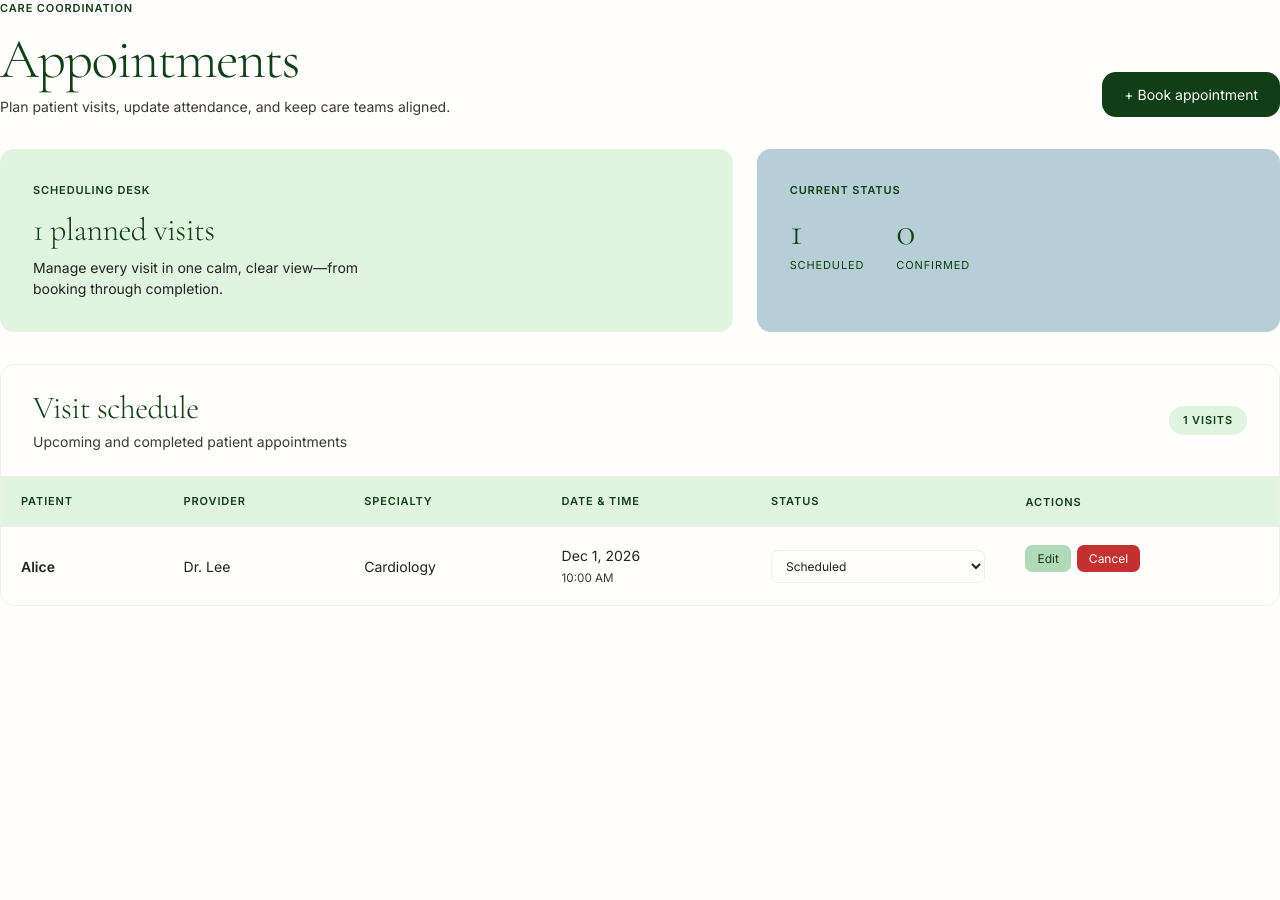
Test case: AppointmentScheduling › opens booking form on button click
The image size is (1280, 900).
Click the button "+ Book appointment": x=1191, y=95 x1=1102 y1=72 x2=1279 y2=117
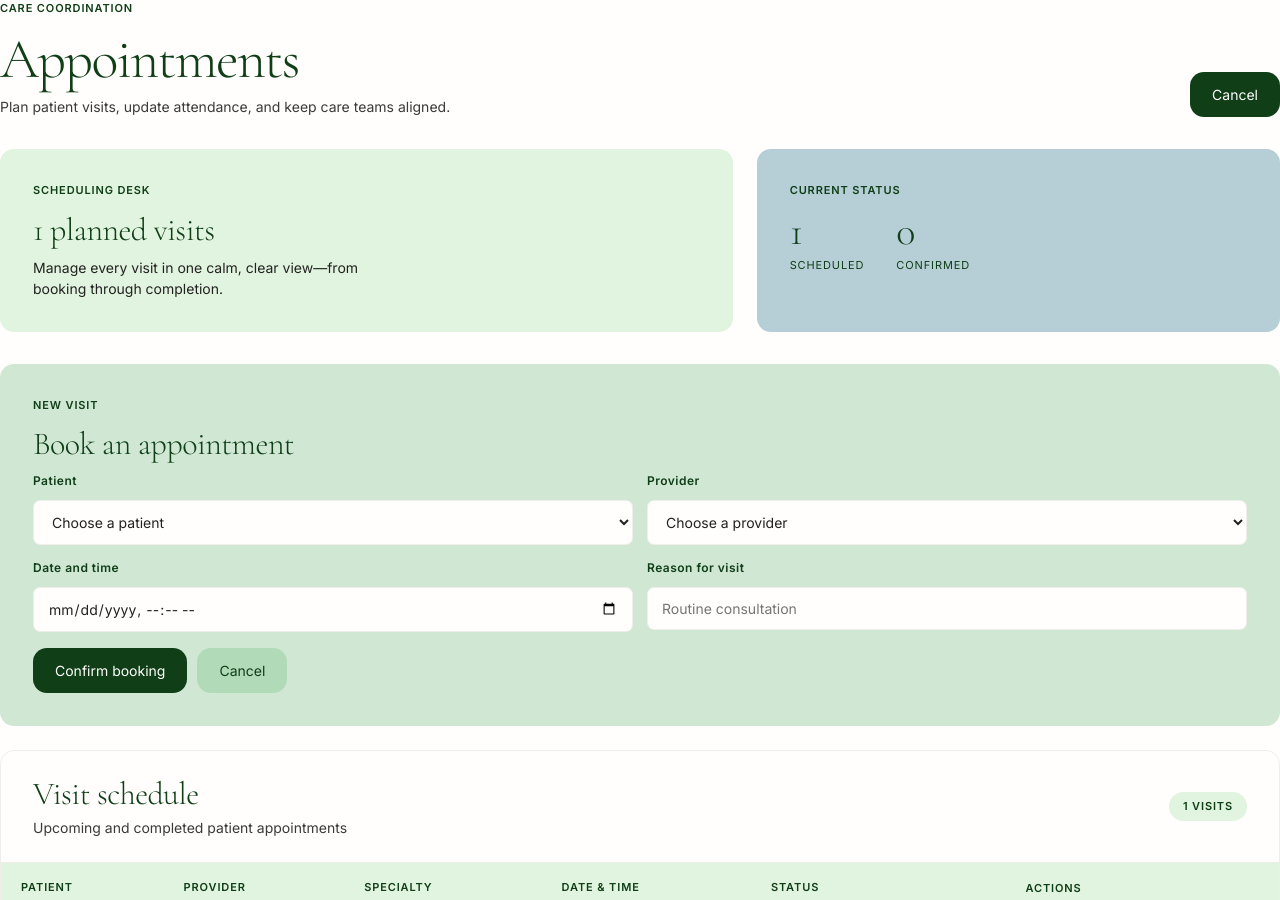
Now the heading "Book an appointment" is shown, box x1=33 y1=424 x2=294 y2=464
